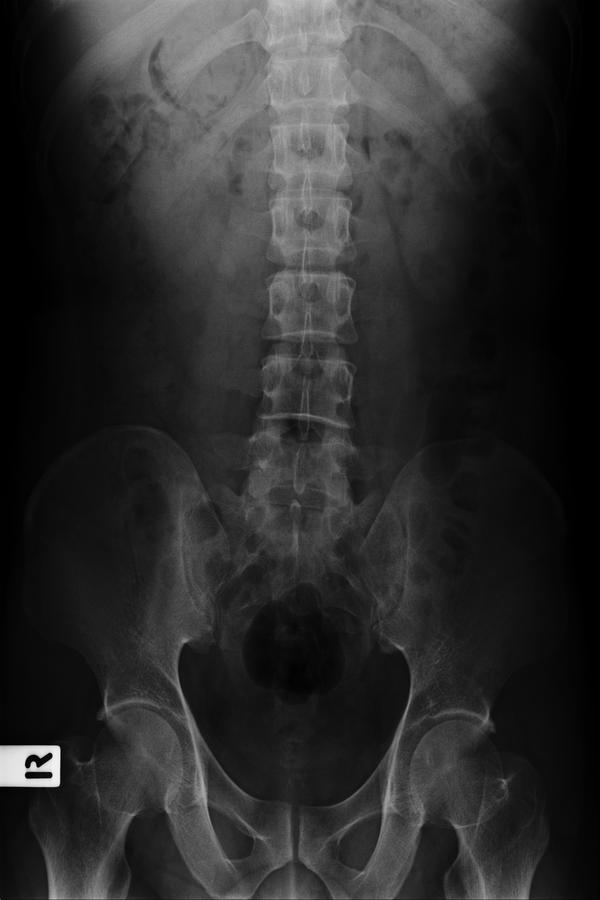not lumbar scoliosis: (240, 165, 364, 526)
